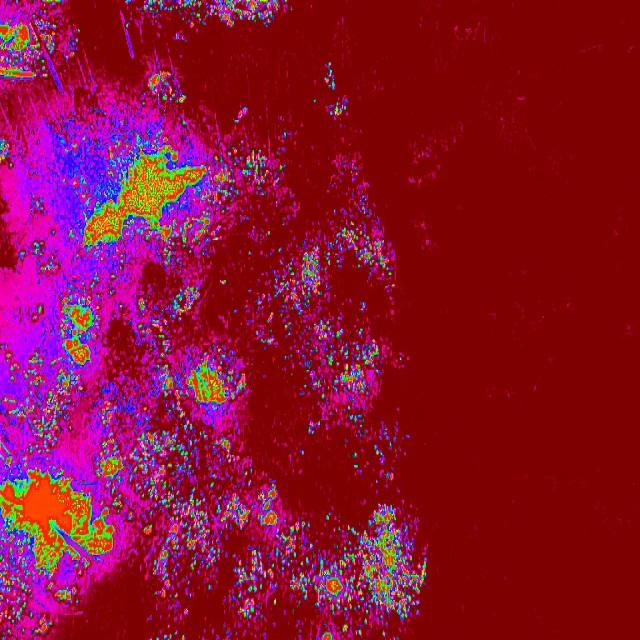fire: (136, 420, 302, 624), (273, 210, 408, 425), (289, 504, 450, 640), (68, 132, 235, 260), (0, 472, 125, 638), (2, 350, 84, 470), (170, 342, 261, 416), (0, 0, 70, 82), (132, 290, 208, 360), (54, 282, 111, 370), (135, 0, 292, 31), (232, 144, 288, 192), (96, 432, 136, 487), (140, 66, 191, 109), (14, 239, 61, 279), (326, 96, 356, 120), (98, 402, 120, 433), (318, 60, 339, 90), (230, 104, 254, 127), (0, 137, 13, 169), (30, 301, 50, 321)
